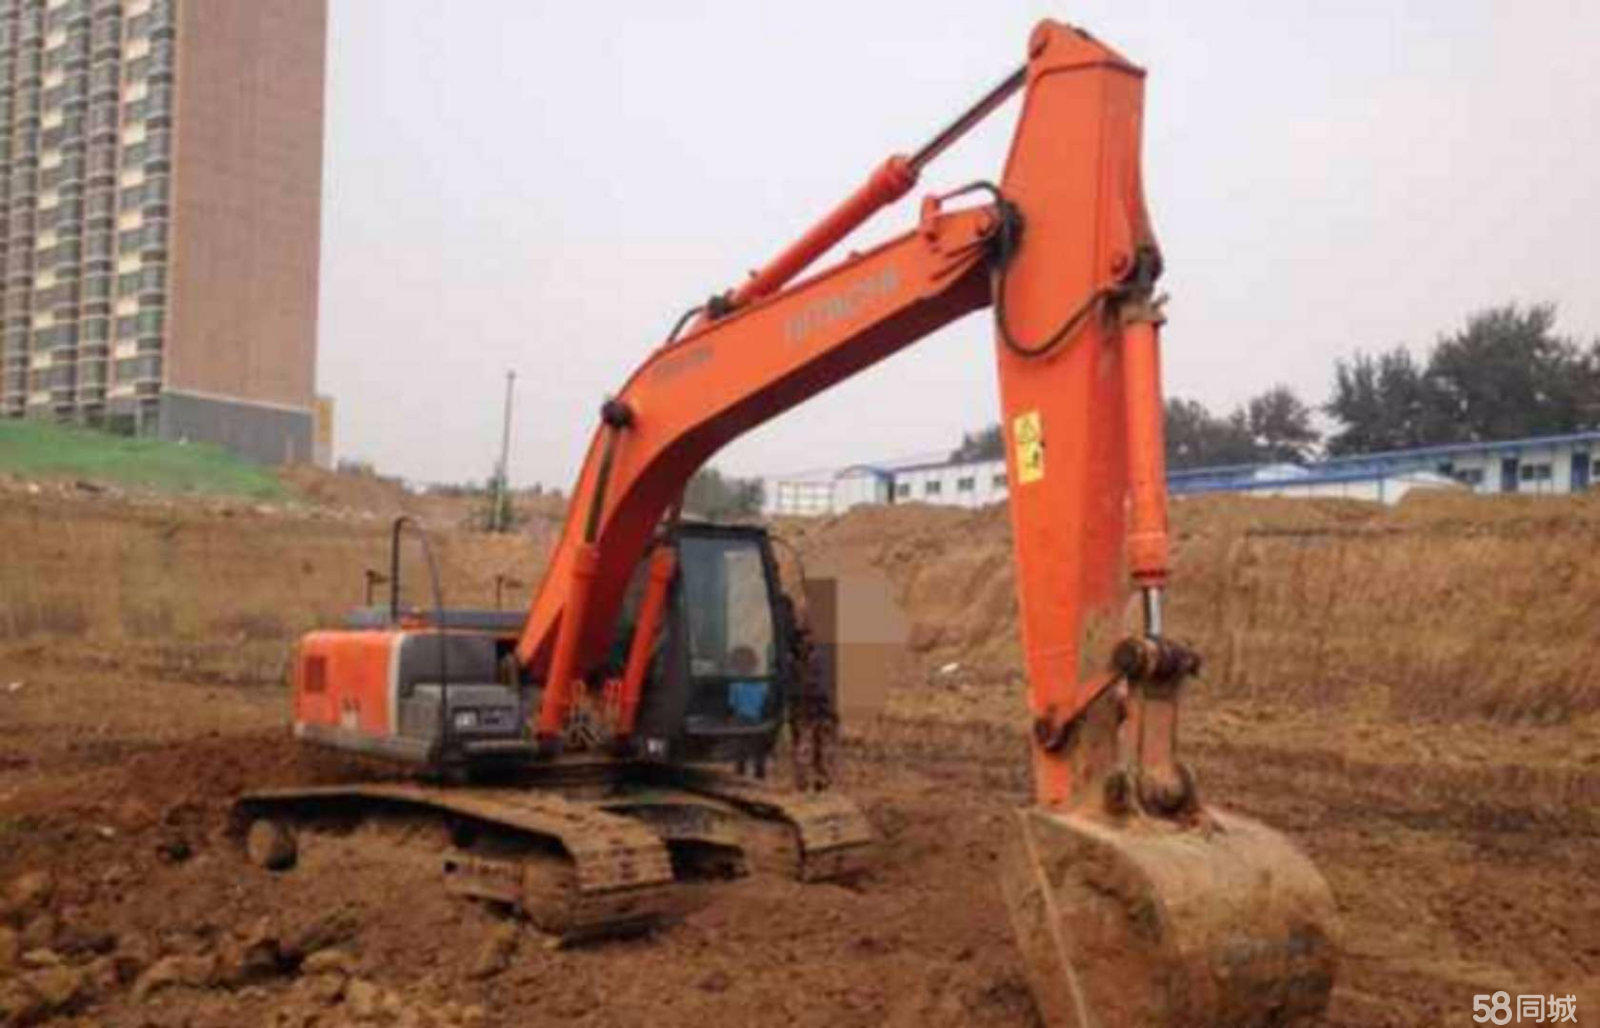excavator: (233, 15, 1366, 1028)
